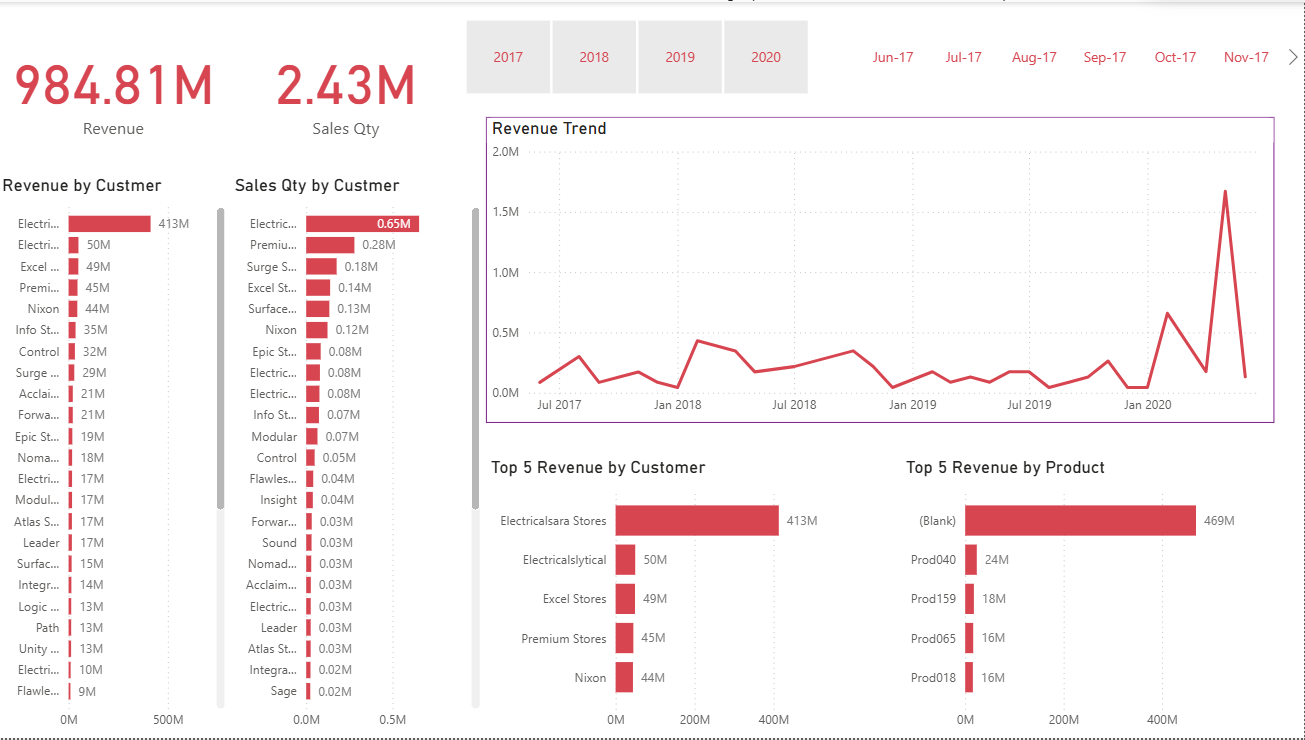

What the dashboard file says about the page in this screenshot:
{"tool":"powerbi","page":{"name":"Page 1","canvas":[1280,720],"ordinal":0},"visuals":[{"type":"card","fields":{"Values":["BaseMeasures.Revenue"]},"box":[1.4,0,227.8,168.8],"z":0},{"type":"card","fields":{"Values":["BaseMeasures.Sales Qty"]},"box":[229.2,0,227.8,168.8],"z":1000},{"type":"barChart","title":"Revenue by Custmer","fields":{"Category":["sales customers.custmer_name"],"Y":["BaseMeasures.Revenue"]},"box":[1.4,168.8,227.8,551.6],"z":2000},{"type":"barChart","title":"Sales Qty by Custmer","fields":{"Category":["sales customers.custmer_name"],"Y":["BaseMeasures.Sales Qty"]},"box":[229.2,168.8,249.7,551.6],"z":3000},{"type":"slicer","fields":{"Values":["sales date.year"]},"box":[433.6,11,384.2,85.1],"z":4000},{"type":"slicer","fields":{"Values":["sales date.cy_date"]},"box":[817.8,11,462.4,85.1],"z":5000},{"type":"barChart","title":"Top 5 Revenue by Customer","fields":{"Category":["sales customers.custmer_name"],"Y":["BaseMeasures.Revenue"]},"box":[478.9,444.6,365,275.8],"z":6000},{"type":"barChart","title":"Top 5 Revenue by Product","fields":{"Category":["sales products.product_code"],"Y":["BaseMeasures.Revenue"]},"box":[885.1,444.6,365,275.8],"z":7000},{"type":"lineChart","title":"Revenue Trend","fields":{"Y":["BaseMeasures.Revenue"],"Category":["sales date.cy_date"]},"box":[478.9,112.5,771.2,299.1],"z":8000}]}

Visuals, with their boxes in screenshot pixels (x1, y1, x2, y2), scaled from the page's 1280x720 canvas onto the 1305x740 screenshot:
card - BaseMeasures.Revenue: left=1, top=0, right=234, bottom=173
card - BaseMeasures.Sales Qty: left=234, top=0, right=466, bottom=173
"Revenue by Custmer" barChart: left=1, top=173, right=234, bottom=739
"Sales Qty by Custmer" barChart: left=234, top=173, right=488, bottom=739
slicer - sales date.year: left=442, top=11, right=834, bottom=99
slicer - sales date.cy_date: left=834, top=11, right=1304, bottom=99
"Top 5 Revenue by Customer" barChart: left=488, top=457, right=860, bottom=739
"Top 5 Revenue by Product" barChart: left=902, top=457, right=1275, bottom=739
"Revenue Trend" lineChart: left=488, top=116, right=1275, bottom=423
